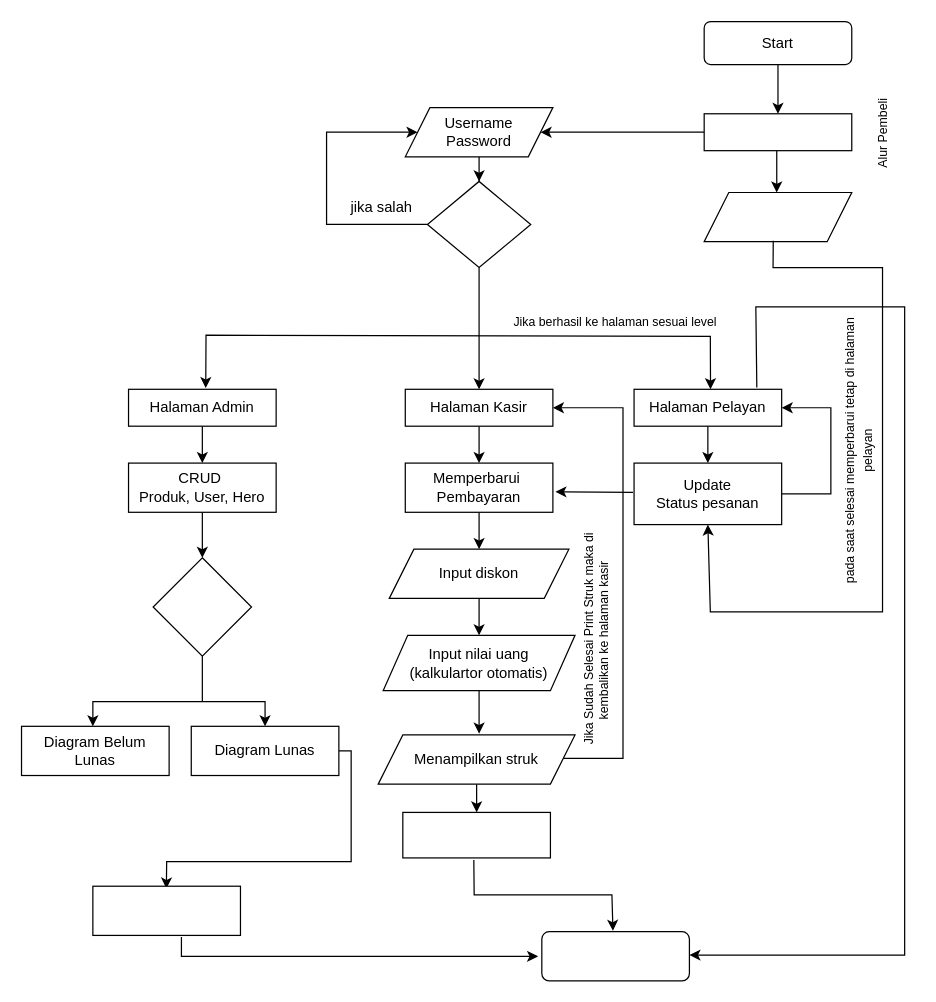
Image size: 936x1002. Some labels were removed from this diagram. Each missing label, with the centre of its shape:
"END" goes at point (615, 955).
"Export excel data diagram lunas" goes at point (166, 910).
"Home" goes at point (777, 132).
"Input Pesanan" goes at point (777, 216).
"Print struk" goes at point (476, 834).
"Sorting Bulanan Harian" goes at point (202, 606).
"Validasi" goes at point (478, 224).
